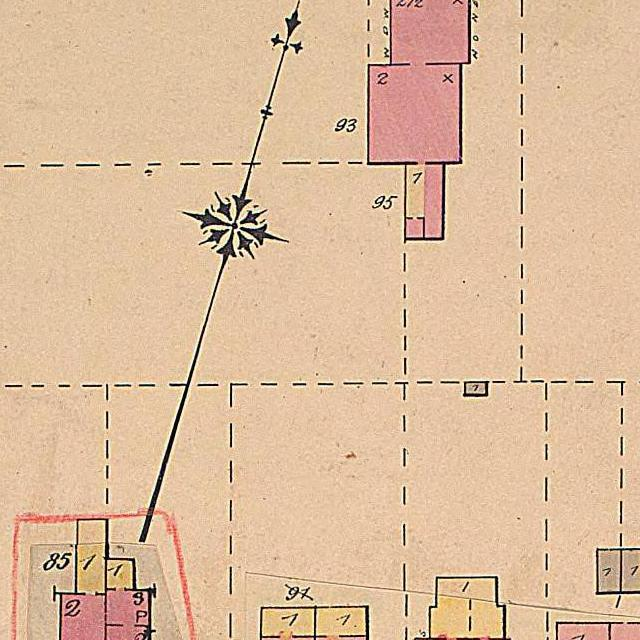building-footprints: (368, 0, 470, 239), (61, 520, 107, 640), (106, 559, 150, 640), (597, 550, 640, 593), (465, 382, 487, 395)
